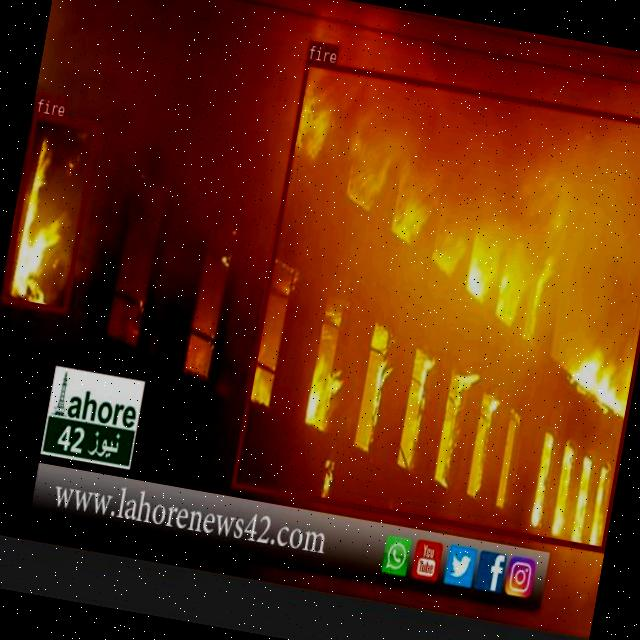fire: (230, 57, 640, 550), (0, 112, 99, 314)
